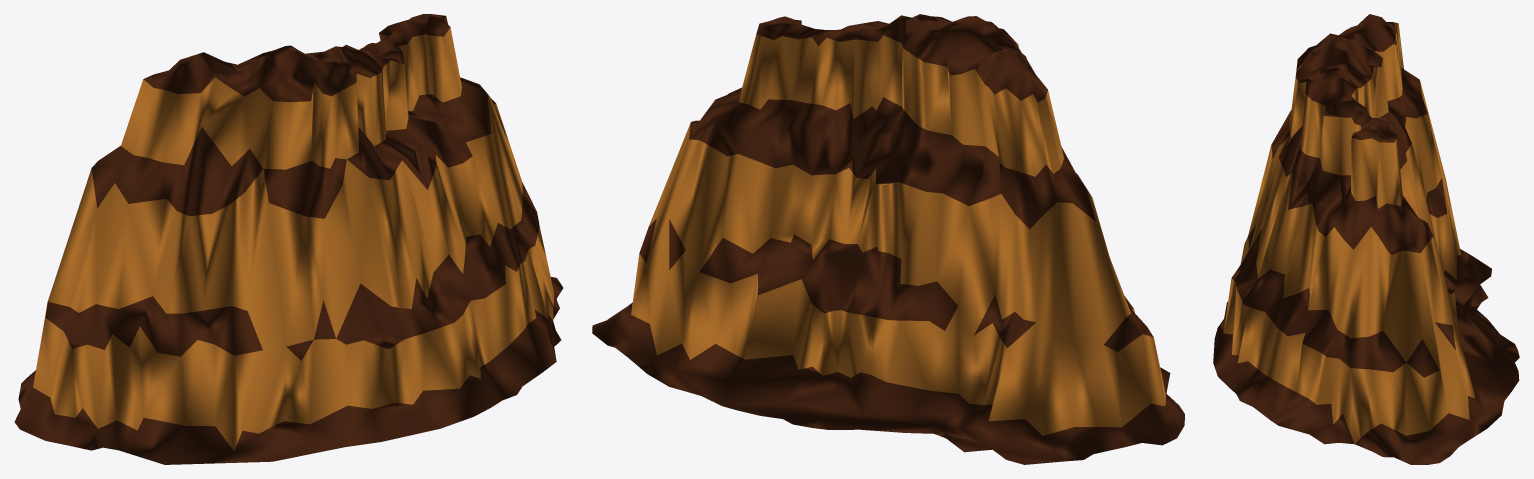
The model's file is Mounting_3.obj.
3 renders of one model, left to right at view 1: azimuth 30°, elevation 25°; view 2: azimuth 150°, elevation 25°; view 3: azimuth 270°, elevation 25°, orthographic. The views are drawn at different scales.
Visible parts, largest first — view 1: Mounting_3; view 2: Mounting_3; view 3: Mounting_3.
Part boxes in pixels (x1=…): Mounting_3: x1=14, y1=14, x2=563, y2=464; Mounting_3: x1=592, y1=14, x2=1184, y2=464; Mounting_3: x1=1213, y1=14, x2=1519, y2=464.
Bounding box in the file's own units: 2470 × 1480 × 1390.
